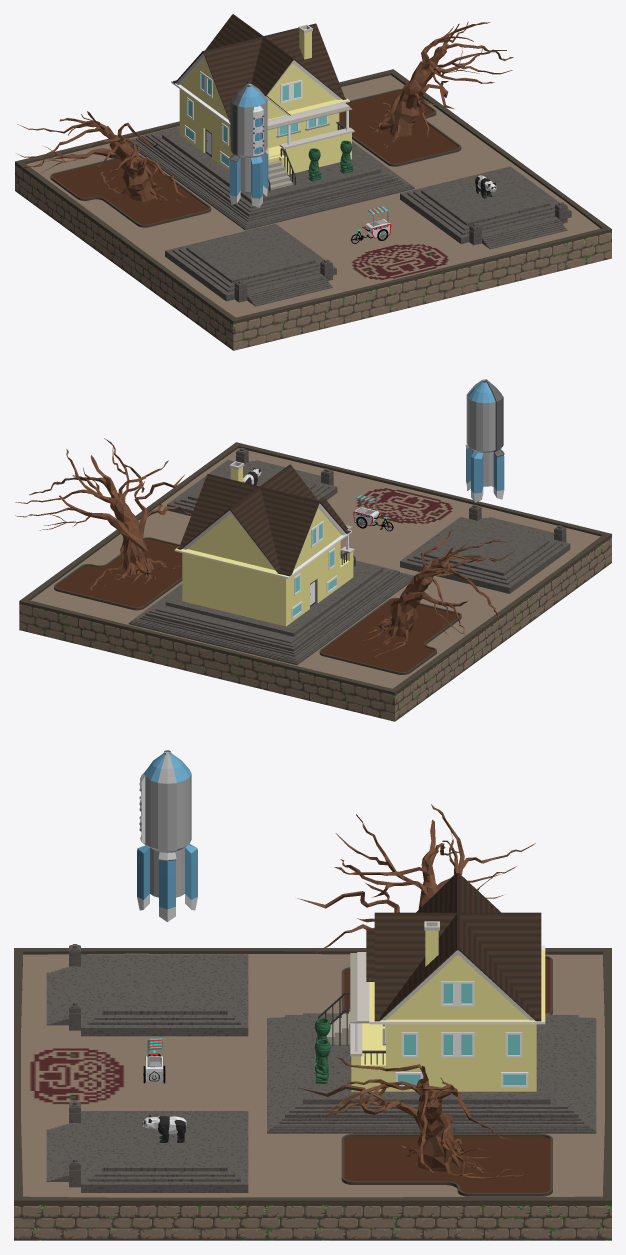
3 renders of one model, top to bottom at view 1: azimuth 30°, elevation 25°; view 2: azimuth 150°, elevation 25°; view 3: azimuth 270°, elevation 25°, orthographic. The views are drawn at different scales.
Visible parts, largest first — view 1: Cube.011, Cube.1555, OBJRANDOM_ROCKETSHIP, VEHICLES_SNOWBAL_BIKE; view 2: Cube.011, Cube.1555, OBJRANDOM_ROCKETSHIP, VEHICLES_SNOWBAL_BIKE; view 3: Cube.011, Cube.1555, OBJRANDOM_ROCKETSHIP, ANIMAL_PANDA, VEHICLES_SNOWBAL_BIKE.
Boxes of the visible parts, bbox=[...] form: Cube.011: bbox=[15, 21, 611, 350]; Cube.1555: bbox=[171, 14, 354, 191]; OBJRANDOM_ROCKETSHIP: bbox=[229, 83, 268, 207]; VEHICLES_SNOWBAL_BIKE: bbox=[351, 206, 391, 243]; Cube.011: bbox=[15, 438, 611, 721]; Cube.1555: bbox=[174, 461, 355, 626]; OBJRANDOM_ROCKETSHIP: bbox=[465, 379, 504, 502]; VEHICLES_SNOWBAL_BIKE: bbox=[353, 495, 393, 531]; Cube.011: bbox=[14, 804, 611, 1240]; Cube.1555: bbox=[318, 873, 545, 1091]; OBJRANDOM_ROCKETSHIP: bbox=[137, 750, 197, 921]; ANIMAL_PANDA: bbox=[142, 1115, 186, 1142]; VEHICLES_SNOWBAL_BIKE: bbox=[143, 1038, 165, 1083].
Size of the model in its own units: 5099 by 2175 by 4000.
Materials: 35 (5 with a texture image).
